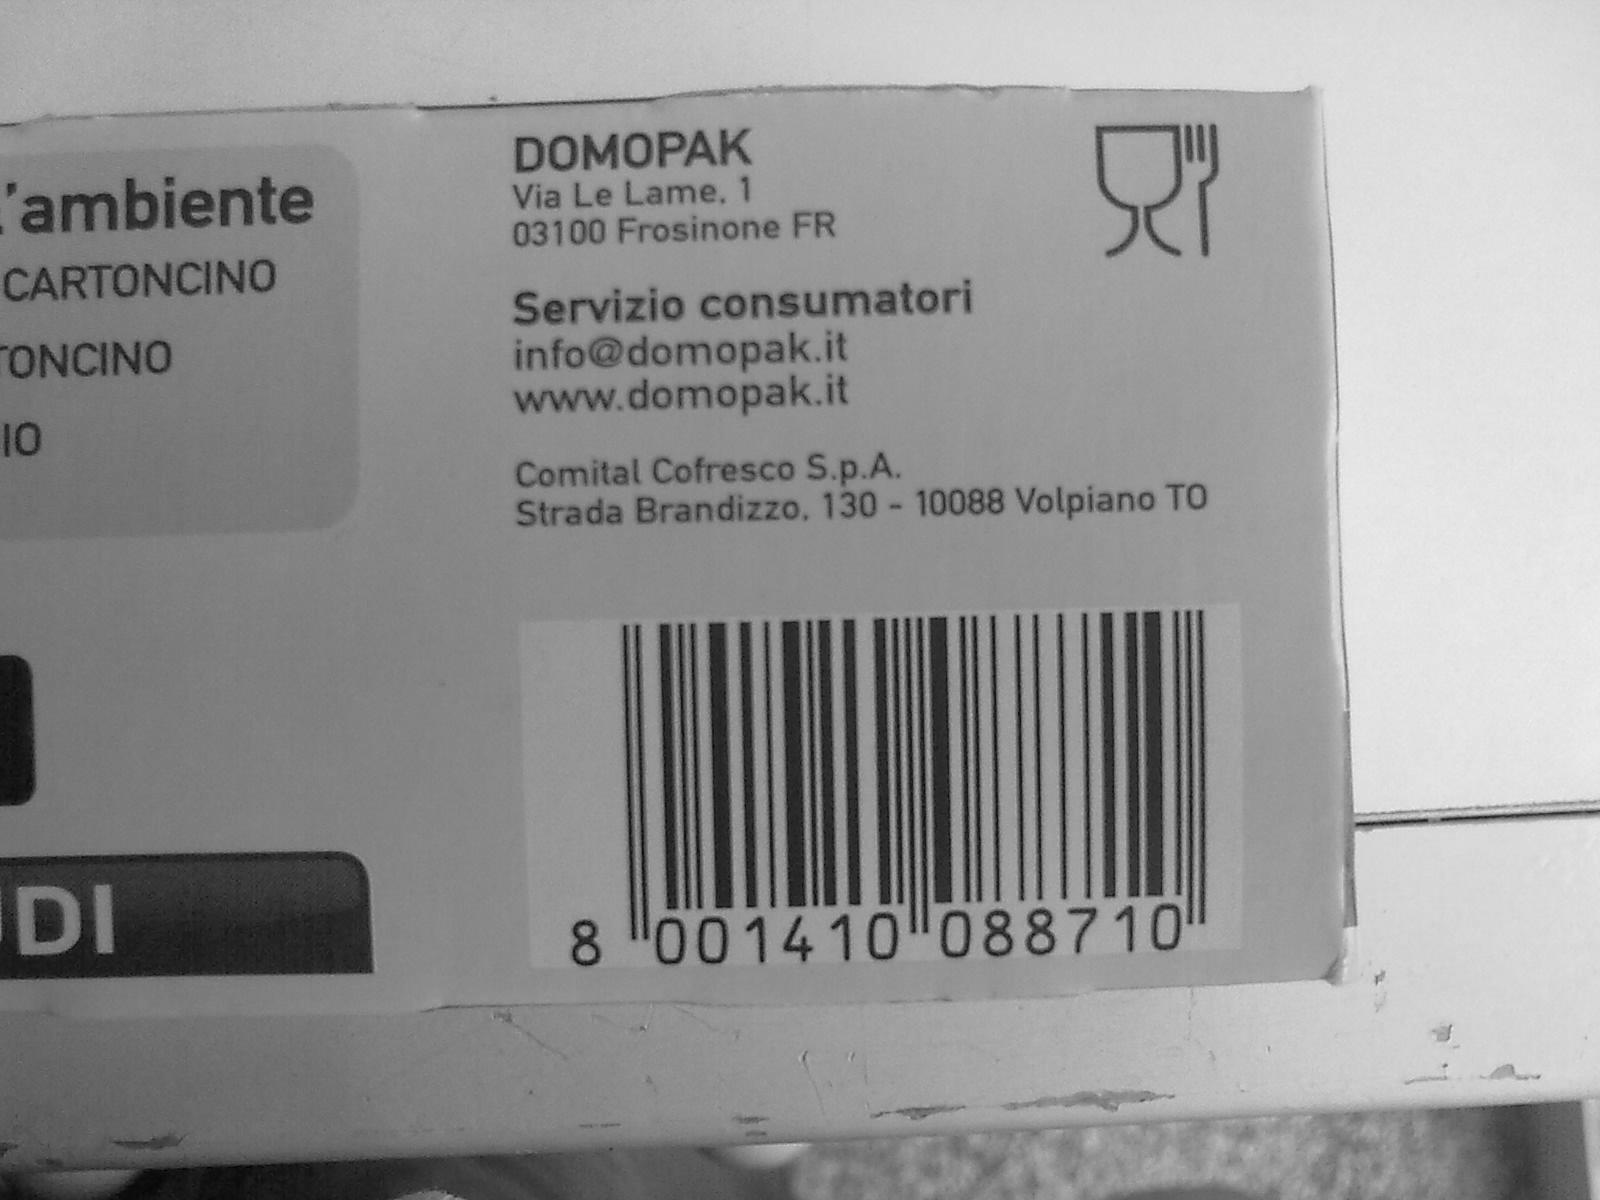Barcode: (591, 575, 1221, 926)
